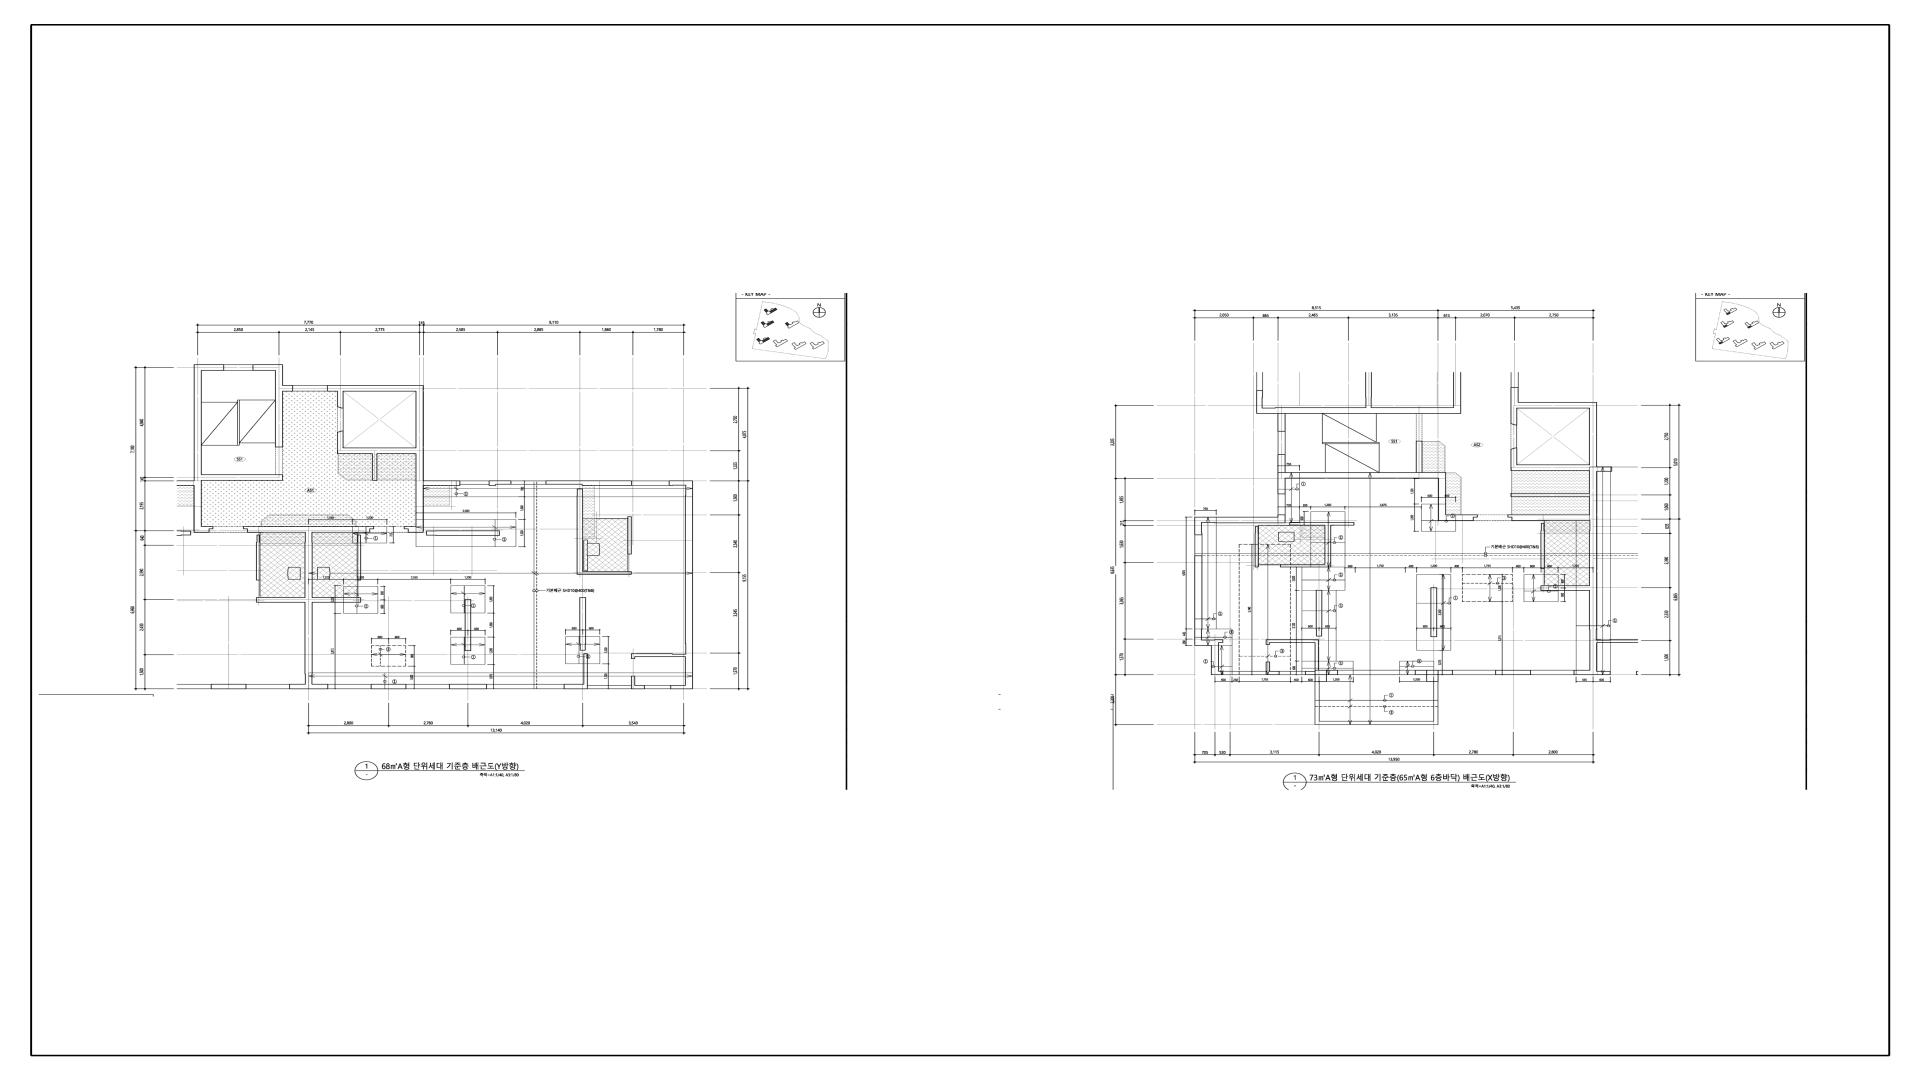wall: (1589, 472, 1598, 670), (685, 485, 693, 685), (1256, 407, 1461, 414), (194, 371, 202, 527), (416, 385, 424, 526), (1286, 472, 1438, 479), (305, 533, 312, 684), (243, 526, 374, 533), (1194, 556, 1202, 640), (327, 385, 416, 392), (275, 371, 283, 447), (202, 474, 283, 481), (1194, 517, 1286, 523), (577, 489, 583, 571), (1508, 515, 1590, 521), (1517, 465, 1597, 471), (1519, 402, 1597, 408), (1589, 408, 1597, 465), (344, 448, 416, 454), (546, 481, 632, 486), (426, 531, 500, 536), (1438, 472, 1446, 515), (580, 597, 586, 651), (465, 599, 471, 651), (1511, 493, 1589, 497), (1431, 587, 1437, 637), (312, 597, 361, 603), (1316, 590, 1322, 637), (1289, 522, 1354, 526), (1438, 515, 1478, 521), (1541, 586, 1589, 591), (1325, 526, 1331, 564), (577, 571, 632, 575), (1416, 441, 1423, 472), (194, 364, 224, 371), (253, 364, 283, 371), (1211, 646, 1219, 671), (449, 684, 487, 689), (627, 516, 632, 554), (1511, 402, 1519, 425), (1541, 523, 1545, 569), (424, 481, 460, 486), (357, 535, 361, 580), (1495, 670, 1531, 675), (1278, 472, 1286, 494), (371, 684, 406, 689), (1195, 640, 1223, 646), (1255, 526, 1259, 567), (337, 431, 344, 454), (1280, 564, 1331, 567), (1278, 454, 1286, 473), (635, 654, 685, 657), (1270, 640, 1319, 643), (1278, 414, 1286, 432), (404, 526, 424, 533), (1511, 448, 1517, 471), (372, 454, 377, 481), (194, 526, 213, 533), (564, 684, 588, 689), (669, 481, 693, 486), (584, 654, 588, 684), (337, 391, 344, 408), (305, 684, 328, 689), (489, 481, 512, 486), (1574, 670, 1597, 675), (1590, 467, 1612, 472), (1315, 643, 1319, 670), (670, 685, 693, 689), (1211, 671, 1232, 675), (1195, 523, 1202, 535), (283, 385, 293, 392), (1439, 670, 1453, 675), (1426, 670, 1439, 675), (1315, 670, 1327, 675), (631, 685, 645, 689), (1266, 671, 1280, 675), (1415, 670, 1426, 675), (1327, 670, 1338, 675), (1305, 671, 1315, 675), (631, 676, 635, 685), (1266, 662, 1270, 671), (631, 654, 635, 659), (1266, 640, 1270, 645), (1278, 515, 1286, 517)
